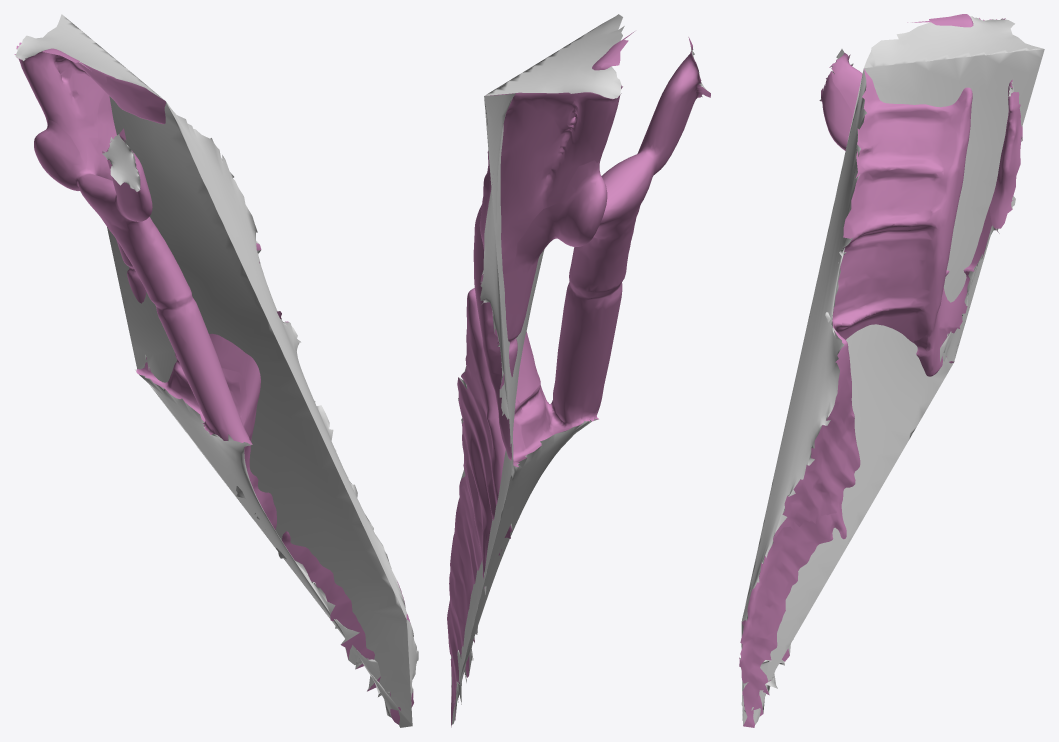
File: Hi3D_Segmented Pastel Female Android 3D Model Asset_part44_20261014_192059.glb
The picture shows the model from 3 angles, left to right: view 1: azimuth 30°, elevation 25°; view 2: azimuth 150°, elevation 25°; view 3: azimuth 270°, elevation 25°; orthographic projection. The views are drawn at different scales.
Parts seen in each view (by area): view 1: Hi3D_Segmented Pastel Female Android 3D Model Asset_part44_2; view 2: Hi3D_Segmented Pastel Female Android 3D Model Asset_part44_2; view 3: Hi3D_Segmented Pastel Female Android 3D Model Asset_part44_2.
Boxes of the visible parts, x1,y1,x2,y2 form: Hi3D_Segmented Pastel Female Android 3D Model Asset_part44_2: (14,14,418,727); Hi3D_Segmented Pastel Female Android 3D Model Asset_part44_2: (447,14,710,727); Hi3D_Segmented Pastel Female Android 3D Model Asset_part44_2: (739,14,1044,727).
Size of the model in its own units: 0.0462 by 0.1081 by 0.0495.
